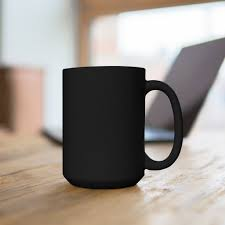mug: (47, 55, 186, 193)
